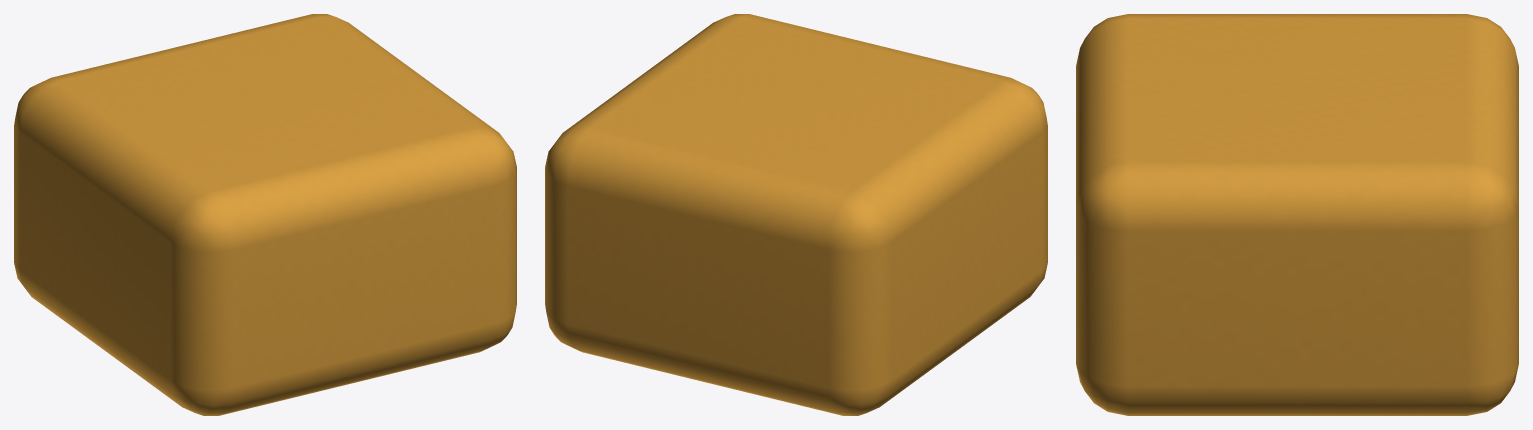
The model's file is count_token_gold.glb.
3 views of the same model, side by side, from view 1: azimuth 30°, elevation 25°; view 2: azimuth 150°, elevation 25°; view 3: azimuth 270°, elevation 25° (orthographic). The views are drawn at different scales.
Parts seen in each view (by area): view 1: SingleCountableBody.001; view 2: SingleCountableBody.001; view 3: SingleCountableBody.001.
Part boxes in pixels (x1=…): SingleCountableBody.001: x1=14, y1=14, x2=516, y2=415; SingleCountableBody.001: x1=545, y1=14, x2=1047, y2=415; SingleCountableBody.001: x1=1076, y1=14, x2=1518, y2=415.
Bounding box in the file's own units: 0.58 × 0.36 × 0.58.
1 material, 1 textured.
